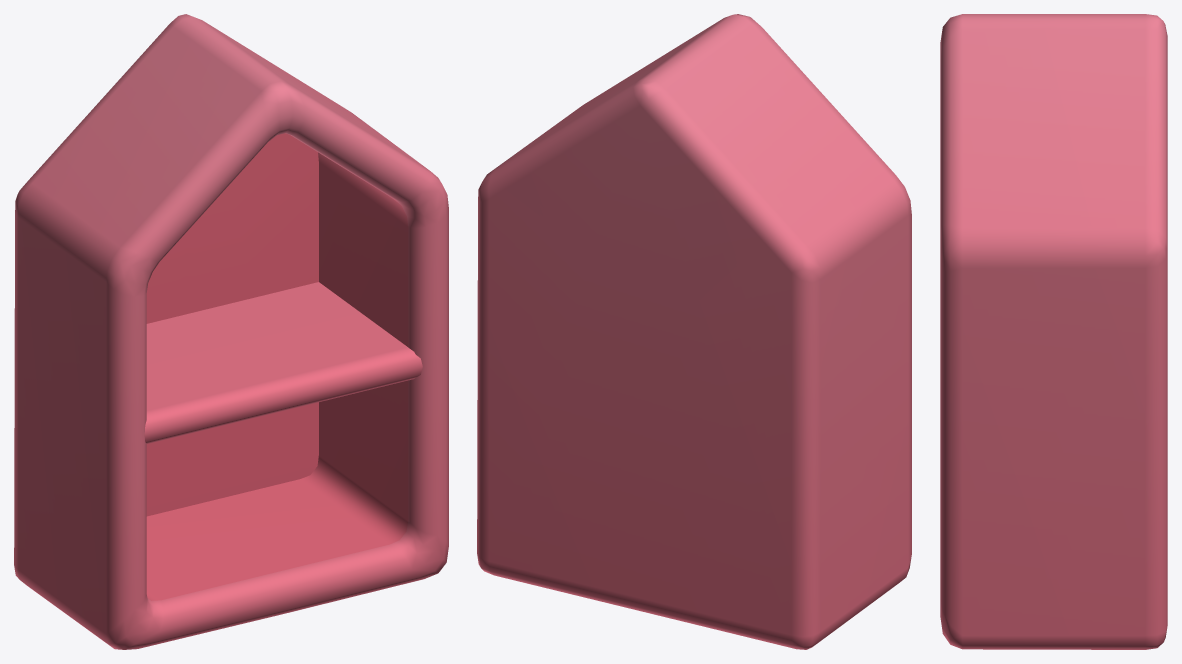
Rendered from Shelf_08.glb.
The picture shows the model from 3 angles, left to right: view 1: azimuth 30°, elevation 25°; view 2: azimuth 150°, elevation 25°; view 3: azimuth 270°, elevation 25°; orthographic projection. The views are drawn at different scales.
Parts seen in each view (by area): view 1: Shelf_08; view 2: Shelf_08; view 3: Shelf_08.
Boxes of the visible parts, <box> form: Shelf_08: <box>14,14,448,649</box>; Shelf_08: <box>477,14,911,649</box>; Shelf_08: <box>940,14,1167,649</box>.
Bounding box in the file's own units: 0.45 × 0.6716 × 0.25.
1 material, 1 textured.
